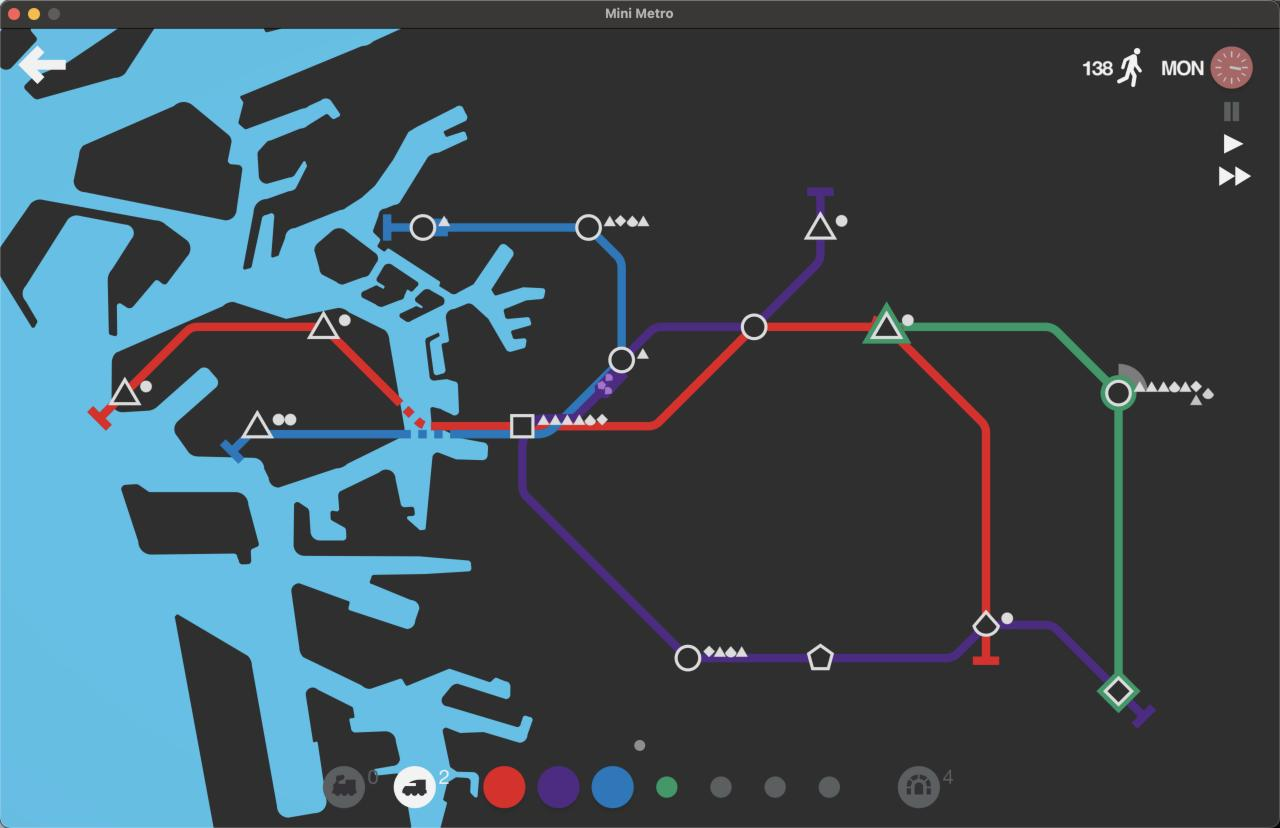CIRCLE: (1101, 375, 1137, 410), (409, 213, 438, 242), (575, 213, 603, 241), (607, 346, 635, 374), (674, 644, 702, 672), (741, 313, 768, 341)
GEM: (1097, 672, 1139, 713)
PENTAGON: (806, 643, 835, 672)
SQUARE: (509, 413, 535, 438)
TRIANGLE: (868, 309, 904, 342), (109, 376, 143, 409), (240, 409, 275, 440), (803, 211, 837, 242), (306, 310, 341, 340)
WEDGE: (971, 609, 1001, 639)
